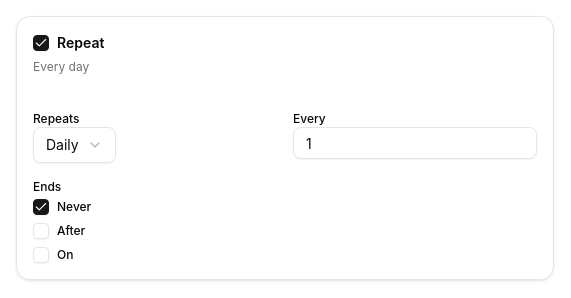
Test case: RecurrenceEditor › 🎯 Recurrence Toggle Behavior › should hide recurrence options when toggled off
This screenshot has width=571, height=298.
Expected: the dropdown named "Repeats" is shown, [33,127,116,163]
Click the checkbox with test id "toggle-recurrence". click: x=41, y=43
box: [33,35,49,51]
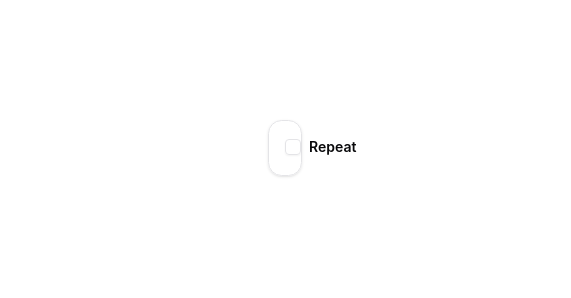
Expected: the label labelled "Repeats" is gone
